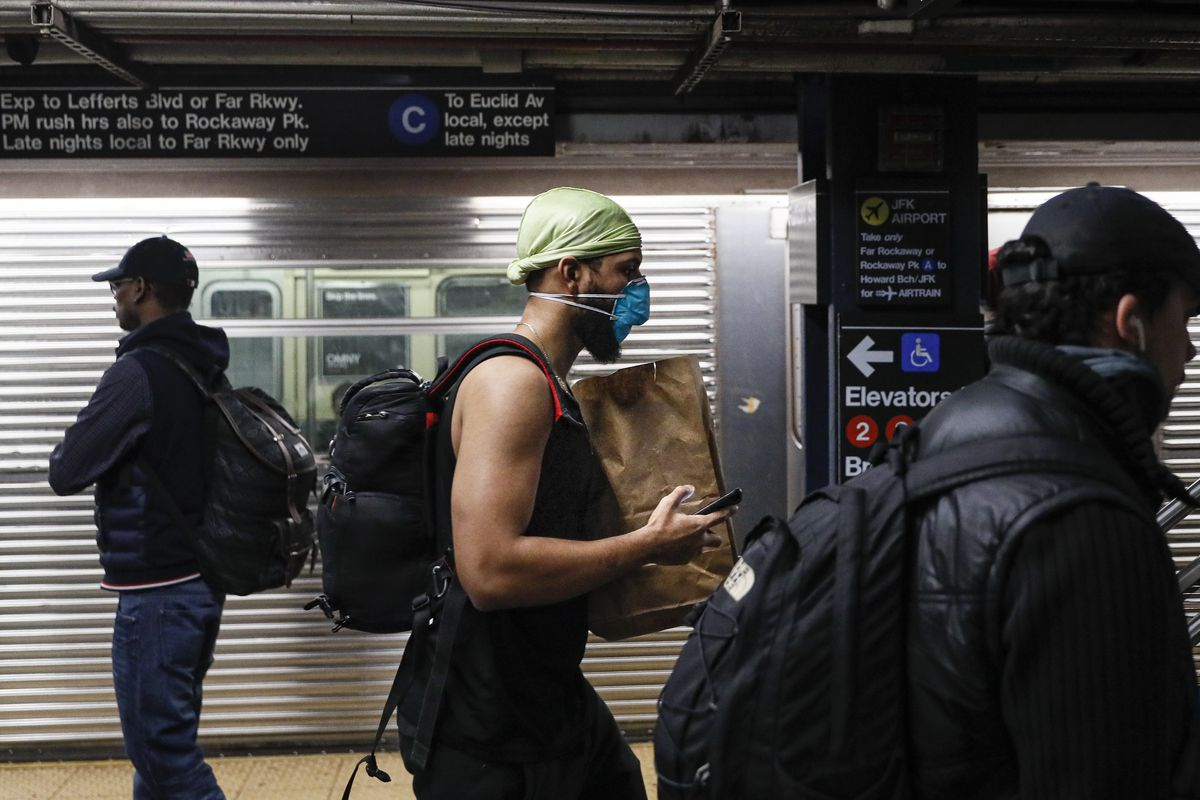person: (378, 170, 750, 800), (890, 168, 1200, 800), (47, 215, 303, 800)
